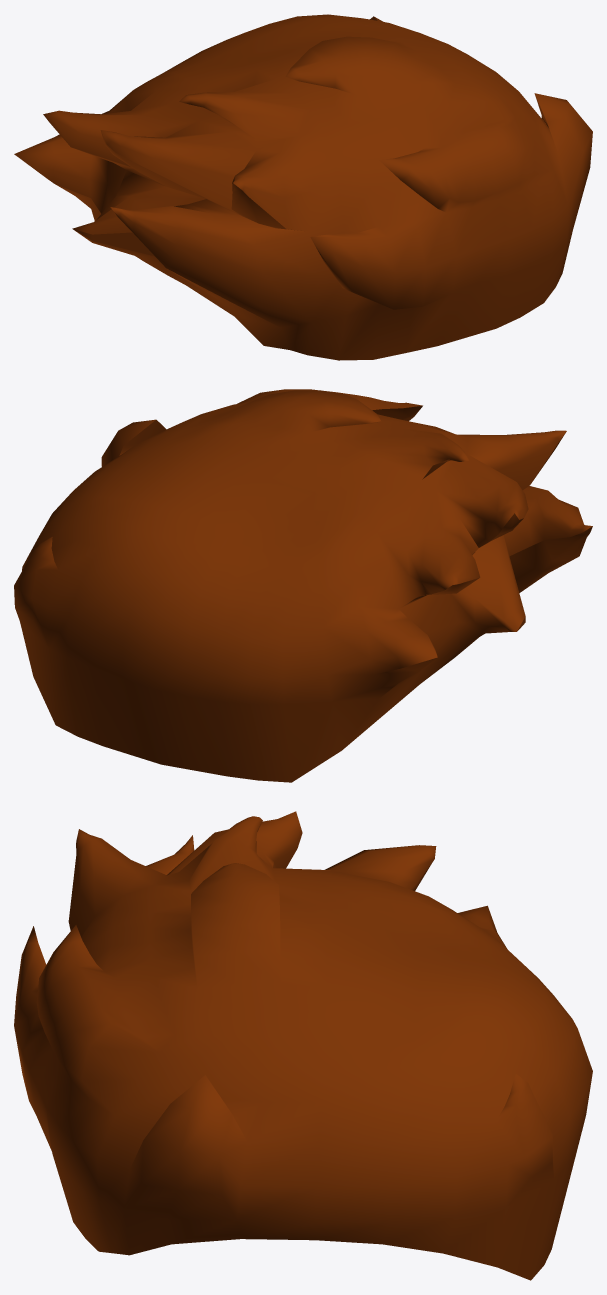
Rendered from Hair_22_02.fbx.
3 views of the same model, one above another, from view 1: azimuth 30°, elevation 25°; view 2: azimuth 150°, elevation 25°; view 3: azimuth 270°, elevation 25° (orthographic). The views are drawn at different scales.
Parts seen in each view (by area): view 1: Hair_22_02; view 2: Hair_22_02; view 3: Hair_22_02.
Part boxes in pixels (<box>): Hair_22_02: <box>14,14,592,360</box>; Hair_22_02: <box>14,389,592,782</box>; Hair_22_02: <box>14,811,592,1280</box>.
Bounding box in the file's own units: 34.1 × 18.35 × 30.44.
